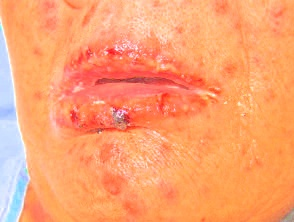SJS-TEN: (42, 28, 230, 139), (79, 140, 184, 222)
